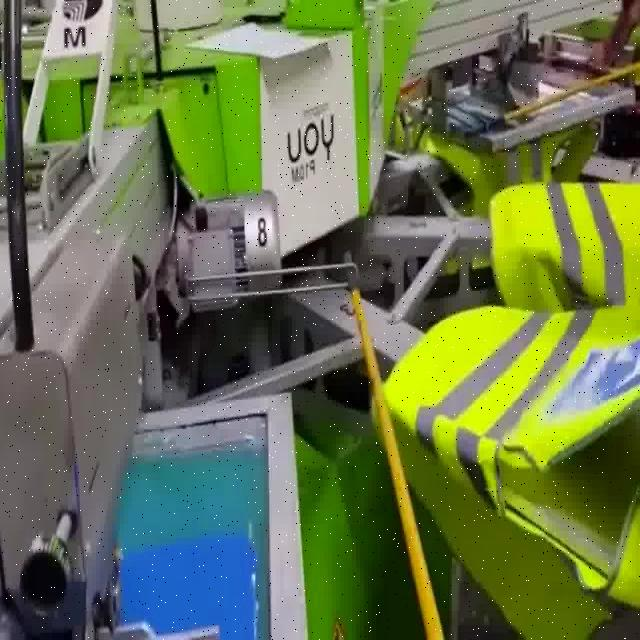Vest: (349, 306, 637, 635), (478, 176, 638, 316)
